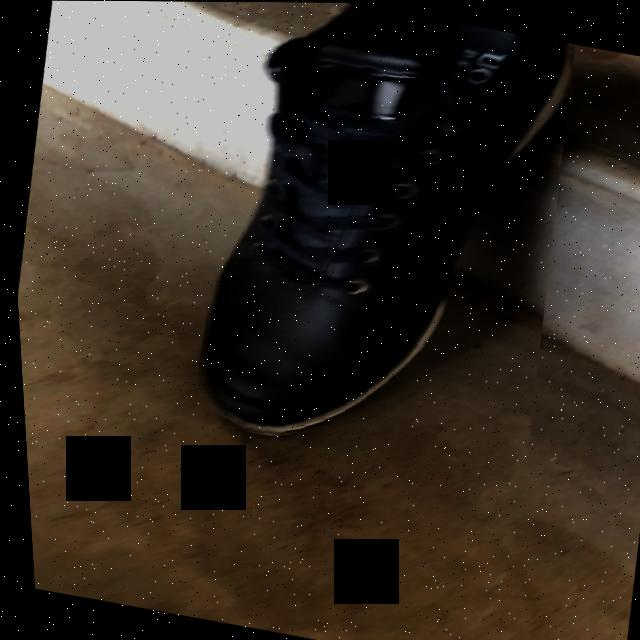shoe: (198, 3, 571, 434)
